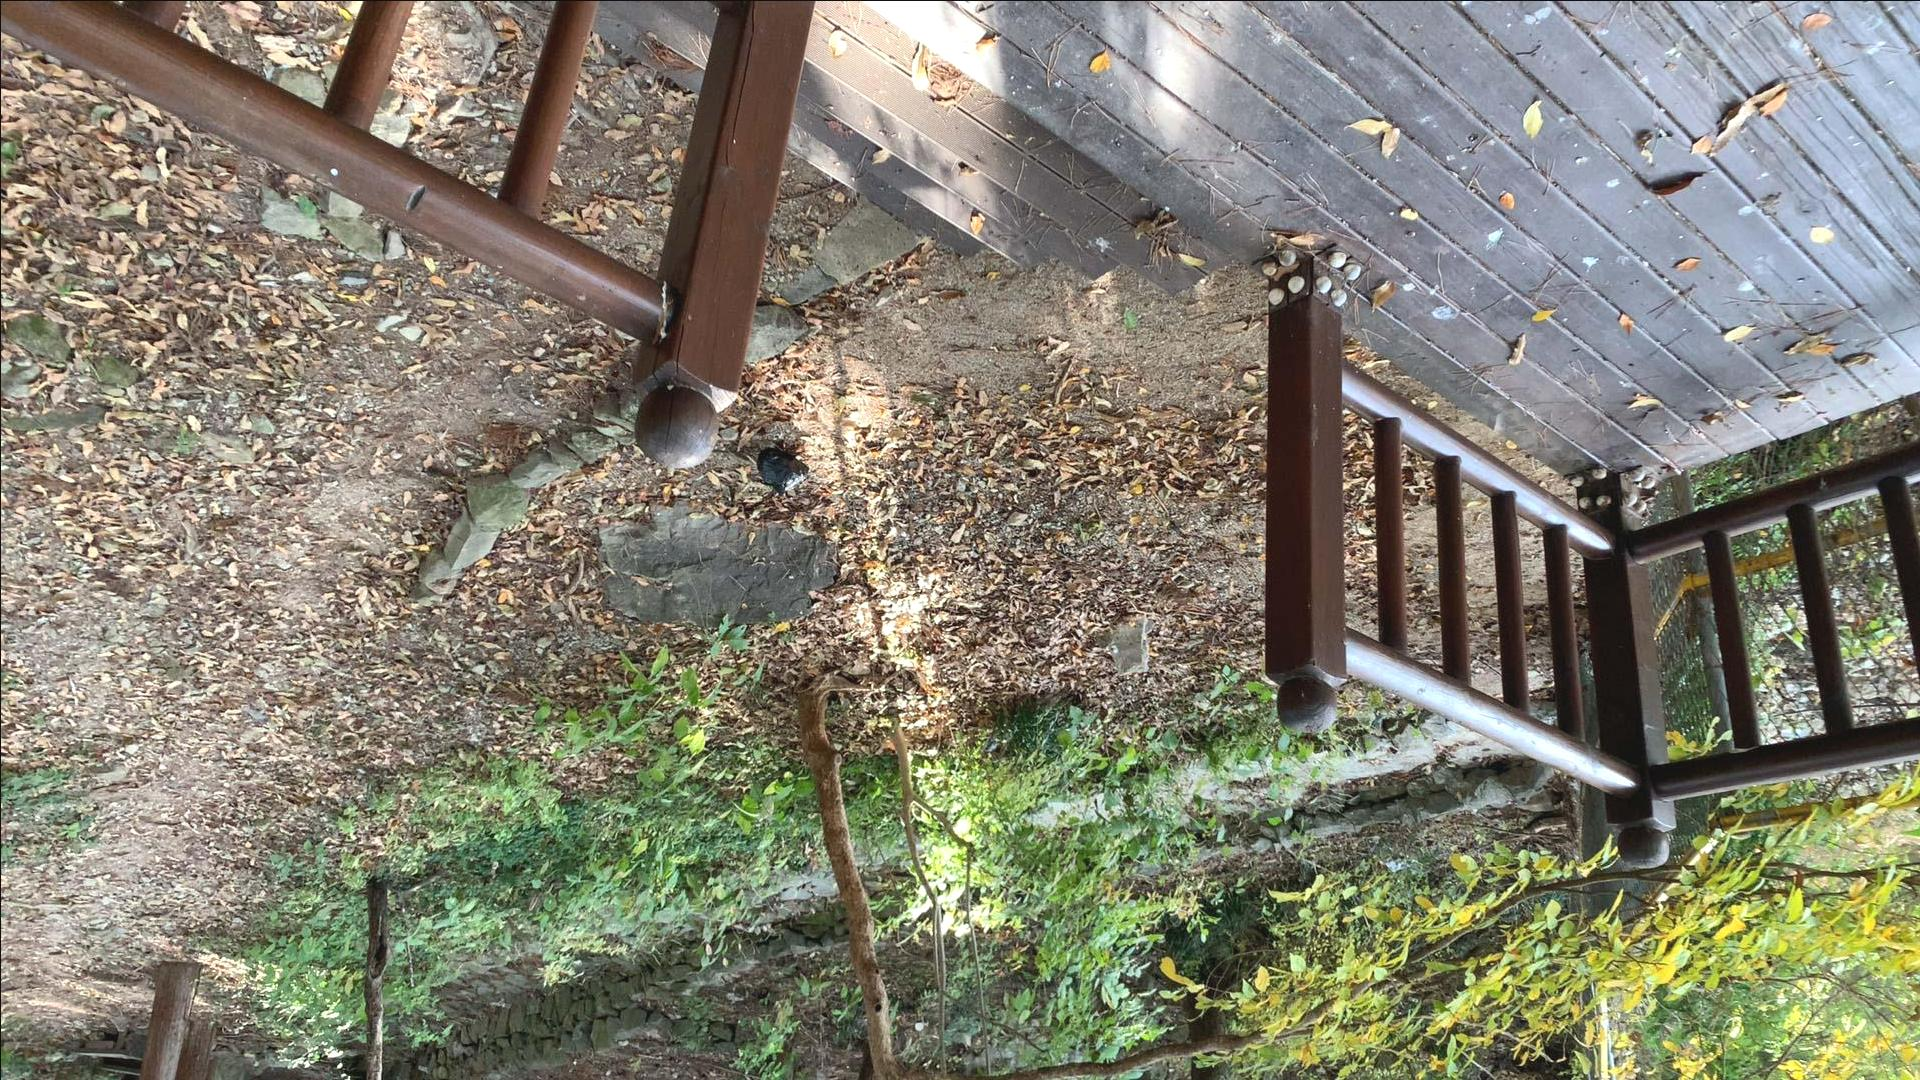black_bag: (754, 444, 812, 498)
